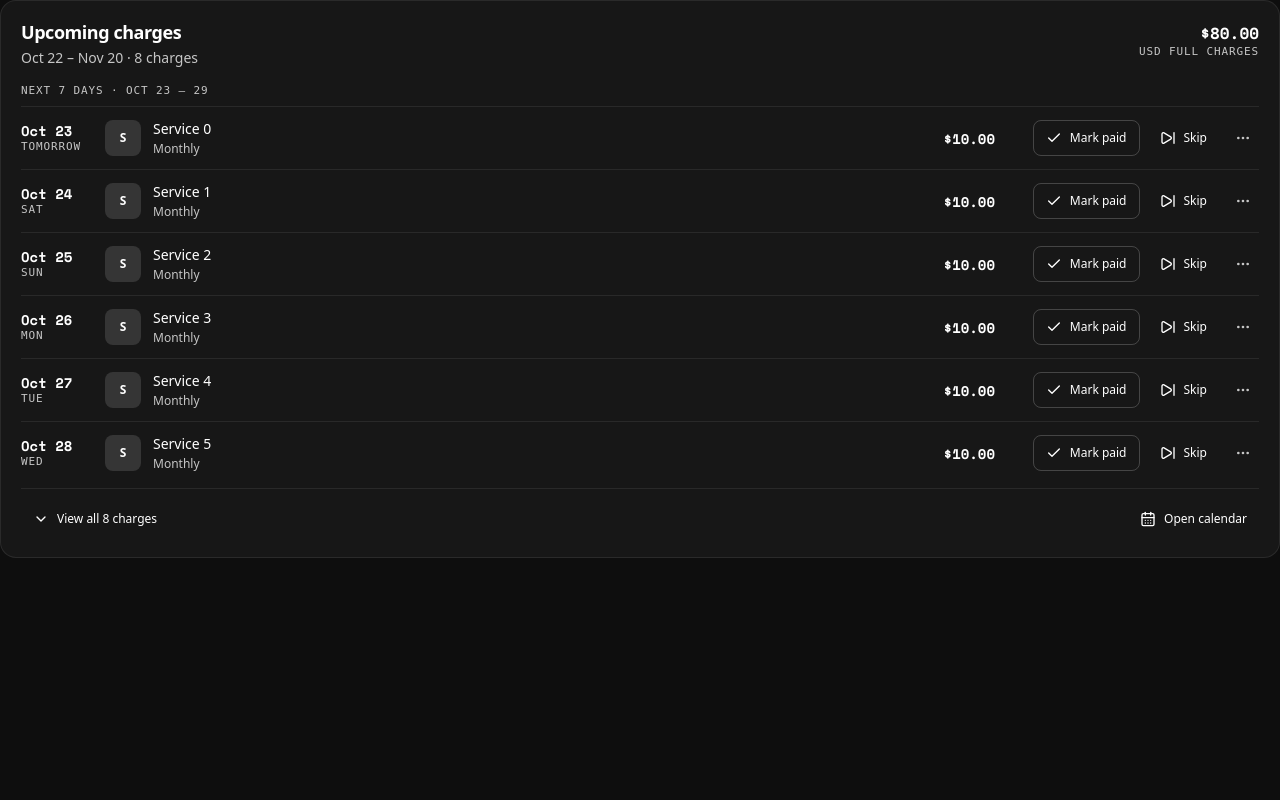
RenewalLedger › shows the first 6 charges and continues with View all
The image size is (1280, 800).
Expected: the text "Service 6" is not shown
Click the button "View all 8 charges".
click(95, 519)  # box x1=21 y1=501 x2=169 y2=537
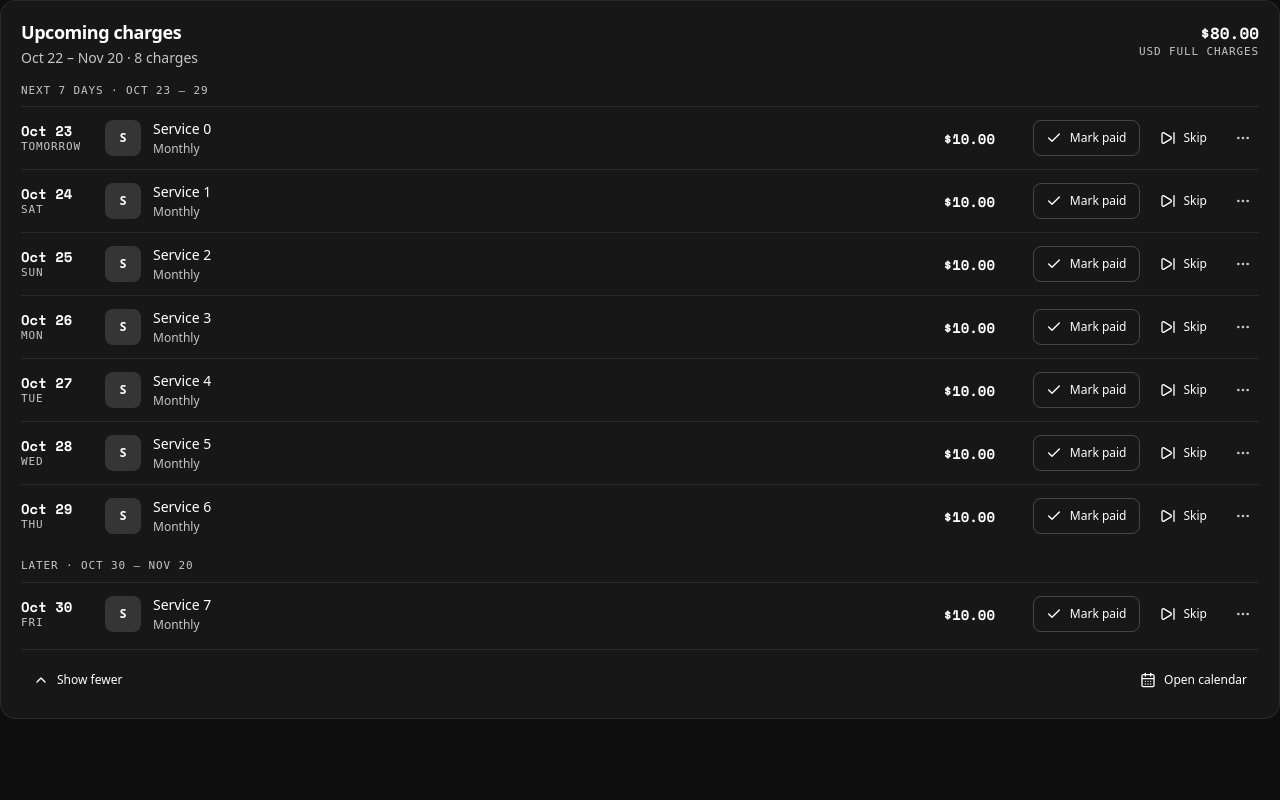
Expected: the text "Service 7" is shown, x1=153 y1=595 x2=211 y2=614
Expected: the button named "View all 8 charges" is expanded, x1=21 y1=662 x2=134 y2=698
Expected: the button named "View all 8 charges" reads "Show fewer", x1=21 y1=662 x2=134 y2=698
